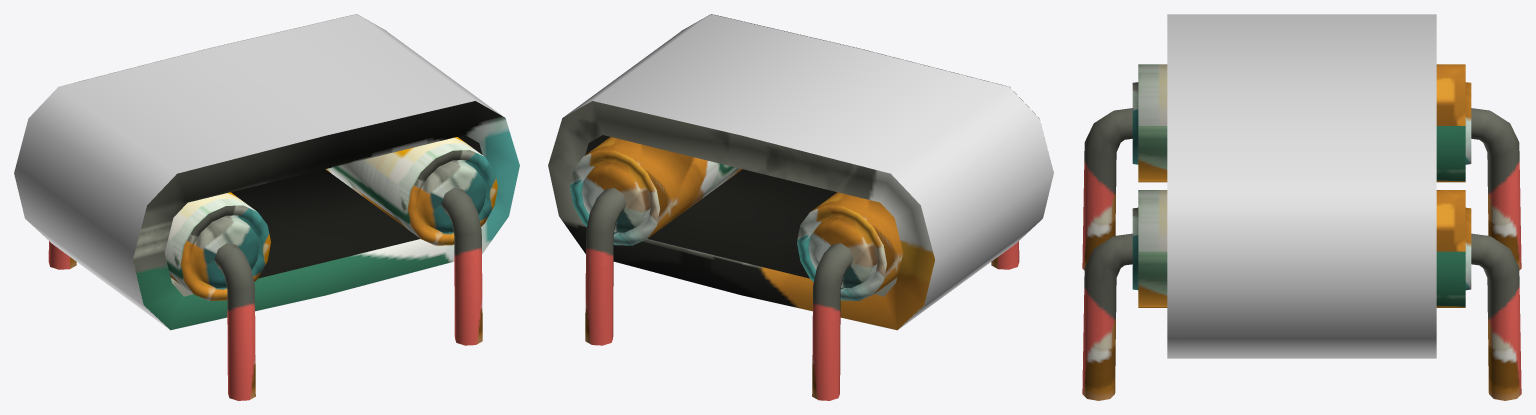
File: MountedSmallConveyorBelt.fbx
3 renders of one model, left to right at view 1: azimuth 30°, elevation 25°; view 2: azimuth 150°, elevation 25°; view 3: azimuth 270°, elevation 25°, orthographic. The views are drawn at different scales.
Parts seen in each view (by area): view 1: MountedSmallConveyorBelt; view 2: MountedSmallConveyorBelt; view 3: MountedSmallConveyorBelt.
Boxes of the visible parts, x1=… form: MountedSmallConveyorBelt: x1=14, y1=14, x2=519, y2=400; MountedSmallConveyorBelt: x1=548, y1=14, x2=1053, y2=400; MountedSmallConveyorBelt: x1=1082, y1=14, x2=1521, y2=400.
Size of the model in its own units: 2.48 by 1.28 by 2.15.
